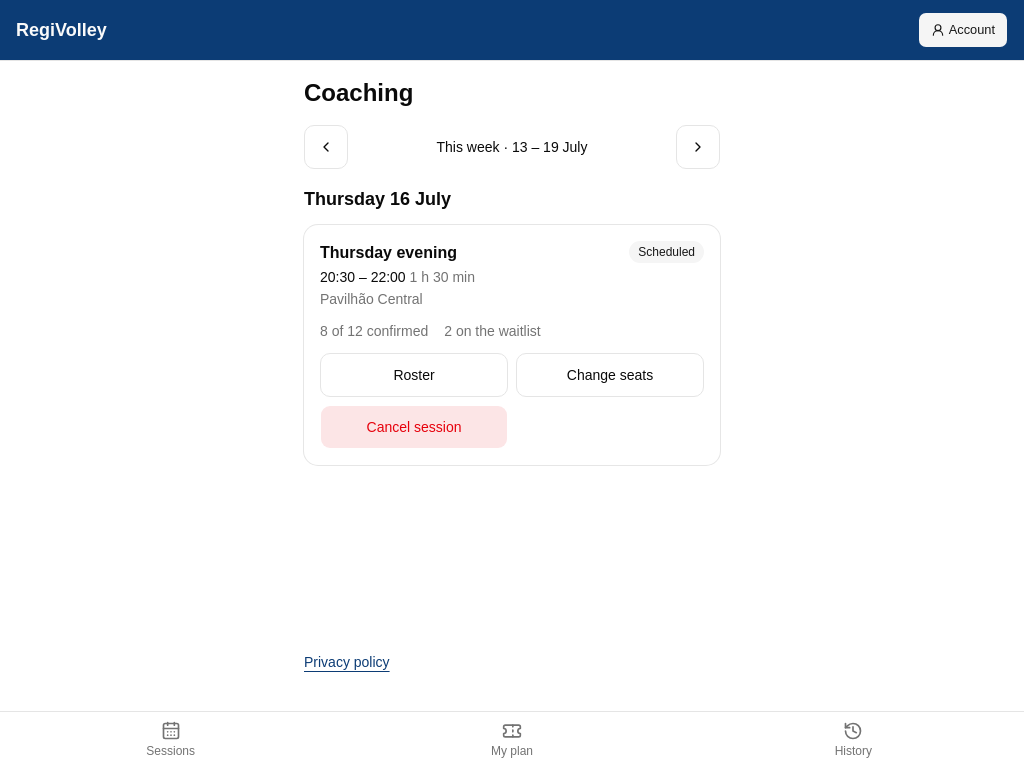
Test: the week navigator › goes back to a past week, where yesterday’s attendance is still to mark, and forward again
Expected: the element "Thursday evening" is shown, [304,225,720,465]
What coordinates should you click on to do the following:
click the button named "Previous week"
I would click on:
 (326, 147)
Its box is [304,125,348,169].
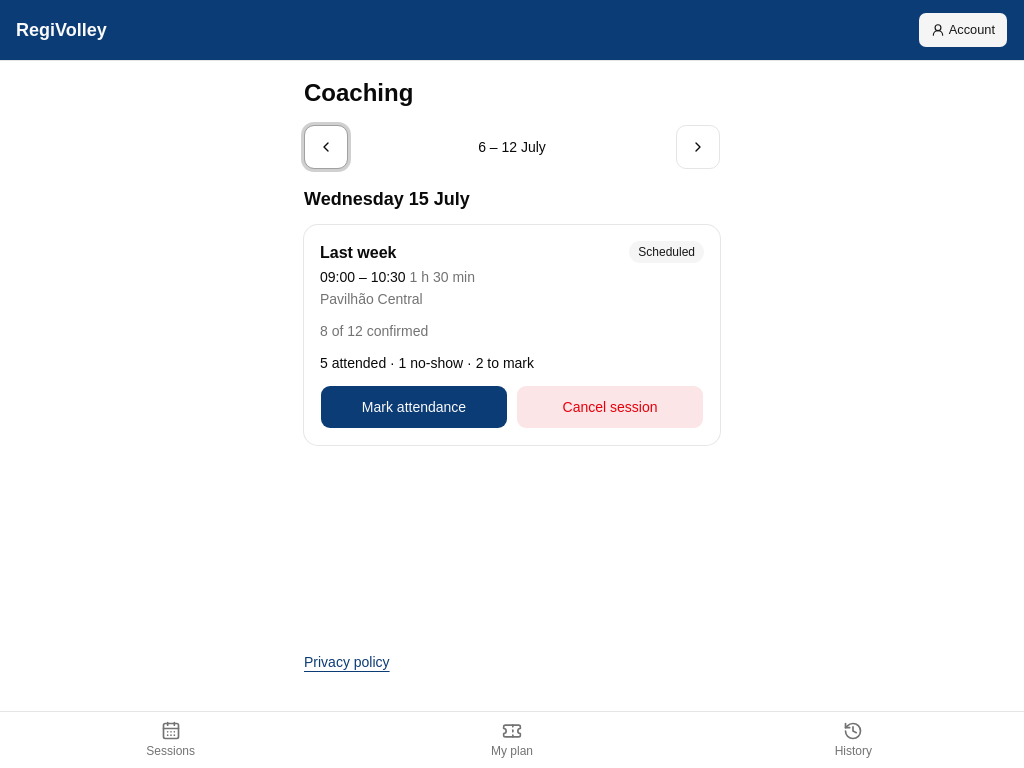
Now the element "Last week" is shown, box [304,225,720,445]
What coordinates should you click on to do the following:
click the button named "Next week"
I would click on:
 (698, 147)
Its box is [676,125,720,169].
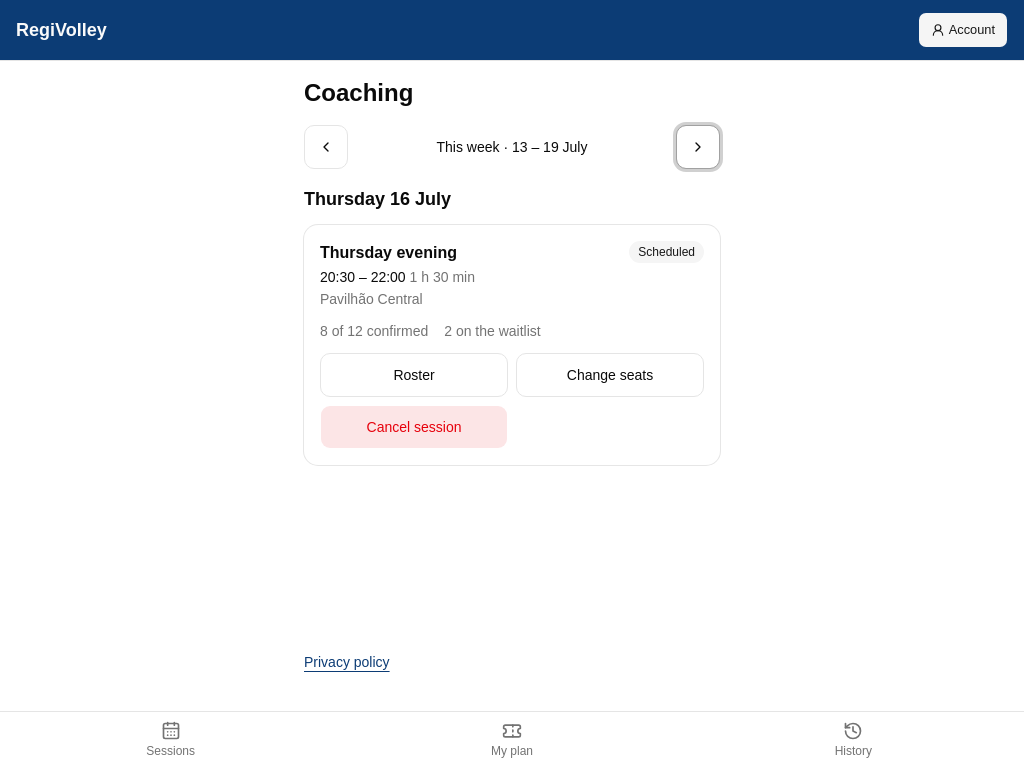
Now the element "Thursday evening" is shown, box [304,225,720,465]
